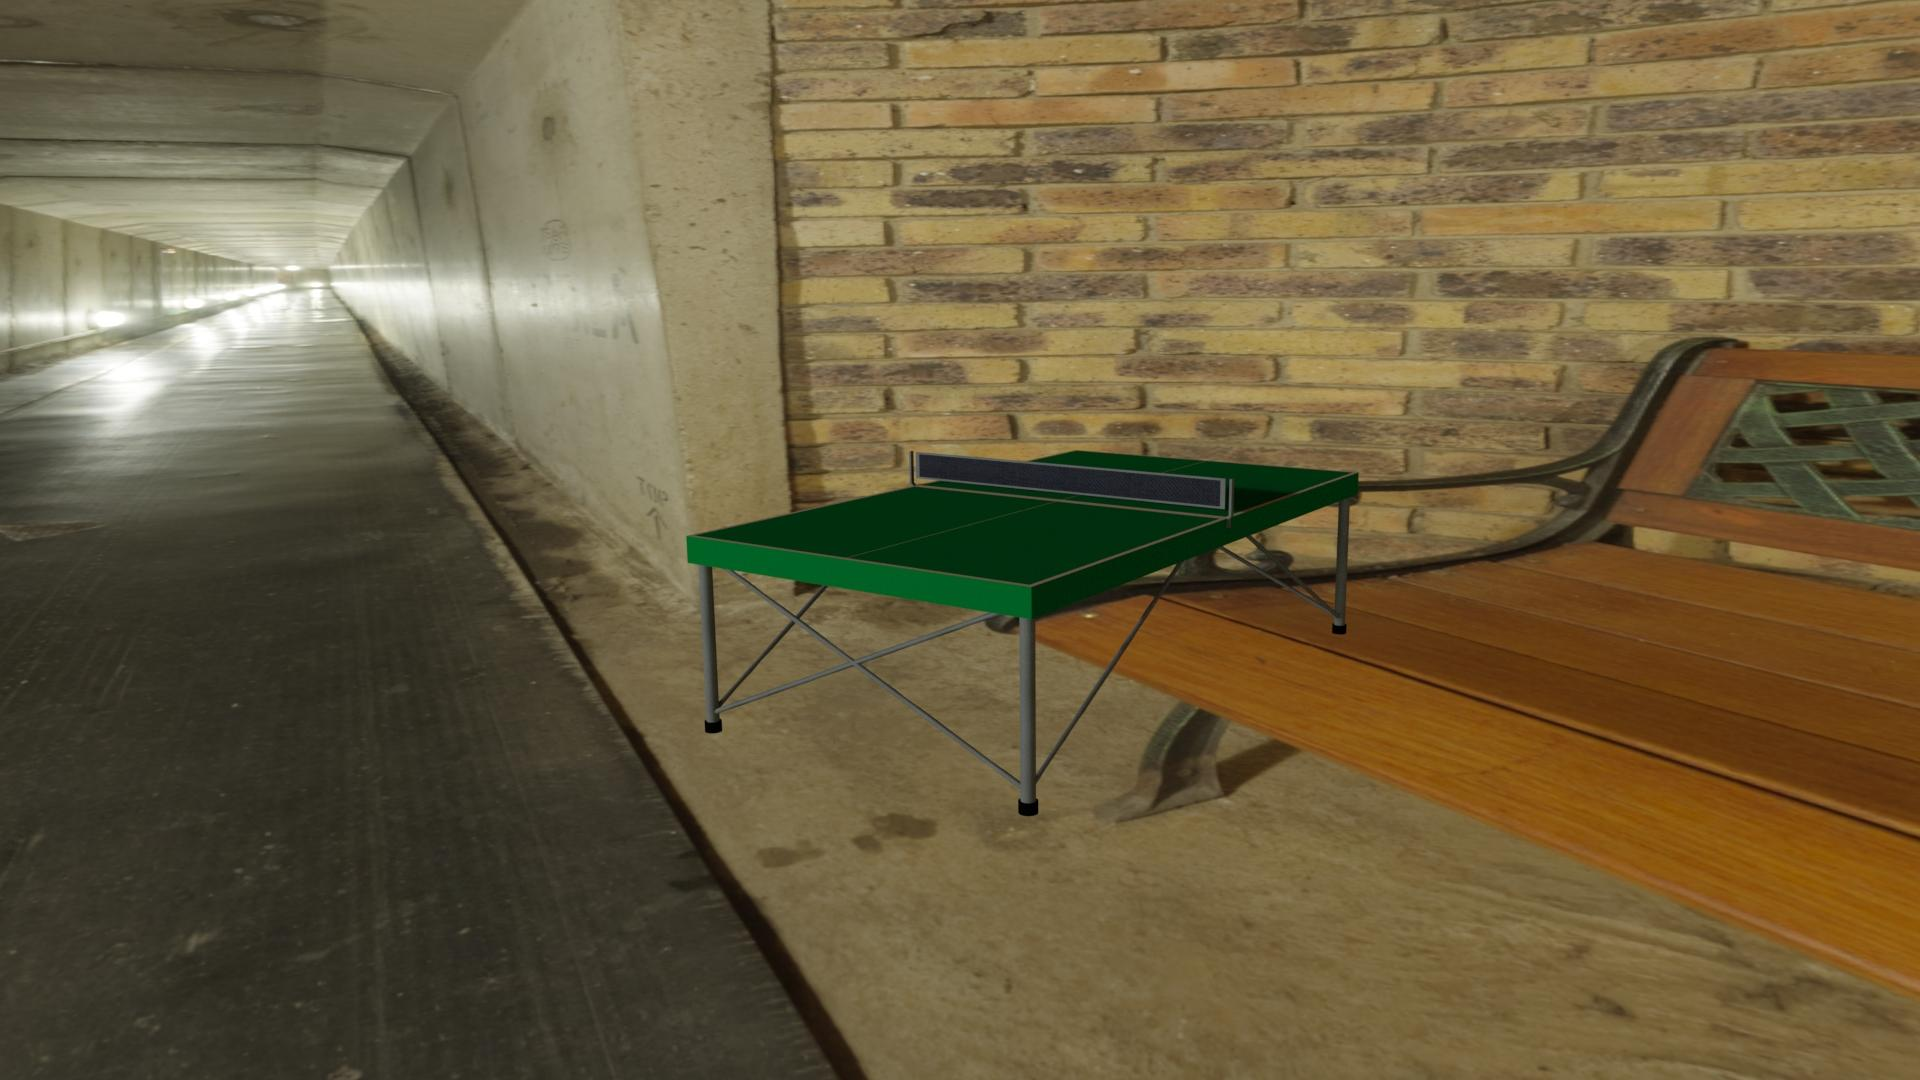table: (694, 451, 1353, 585)
